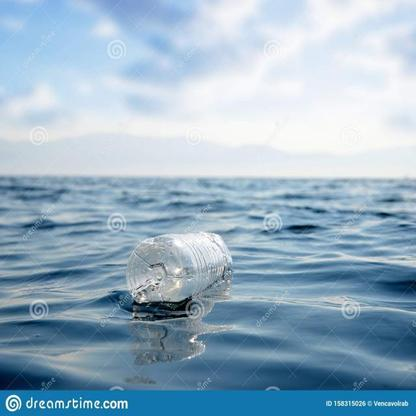plastic bottle: (125, 230, 232, 305)
